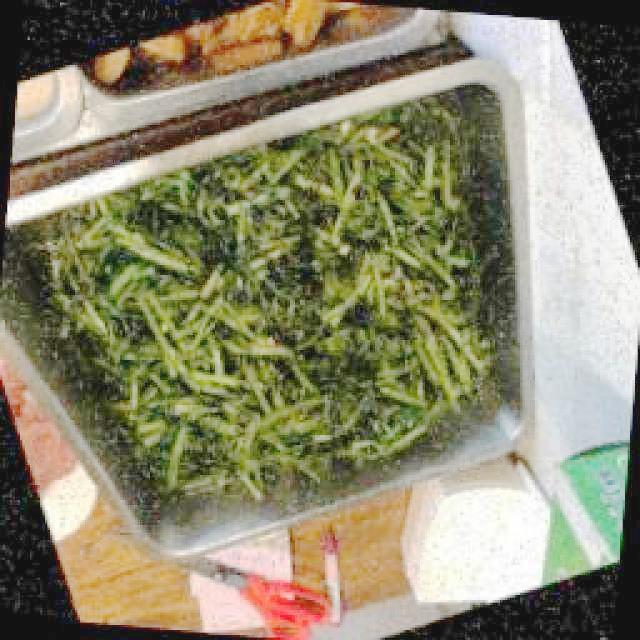water_spinach: (58, 221, 480, 392), (134, 394, 381, 471), (315, 141, 466, 222), (194, 170, 324, 220)
